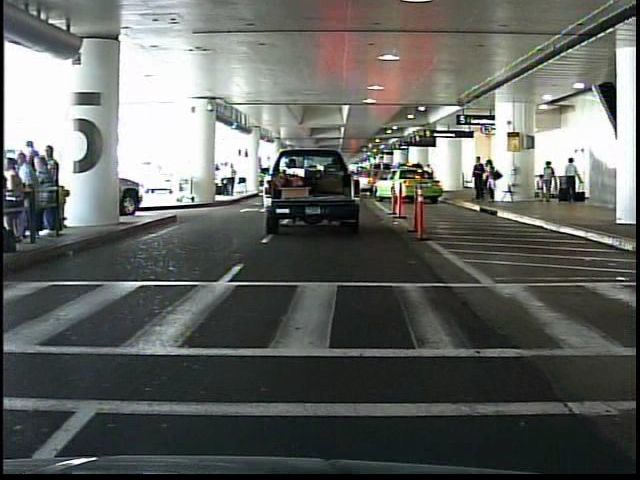person: (470, 154, 487, 206), (485, 157, 501, 205)
